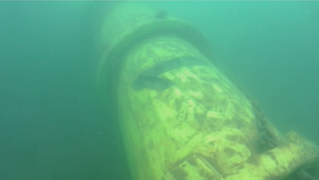1: (131, 54, 211, 91)
pipe: (95, 1, 318, 179)
